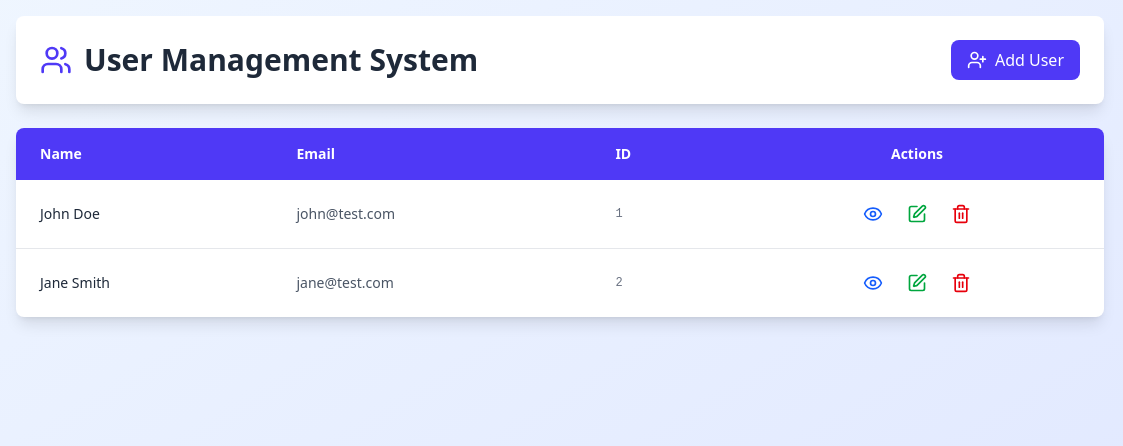
Test: App Component - Integration Tests › should delete user after confirmation
Expected: the text "John Doe" is shown, [16, 180, 272, 248]
Step 1. Click the button named "Delete John Doe" → click(961, 214), box [943, 196, 979, 232]
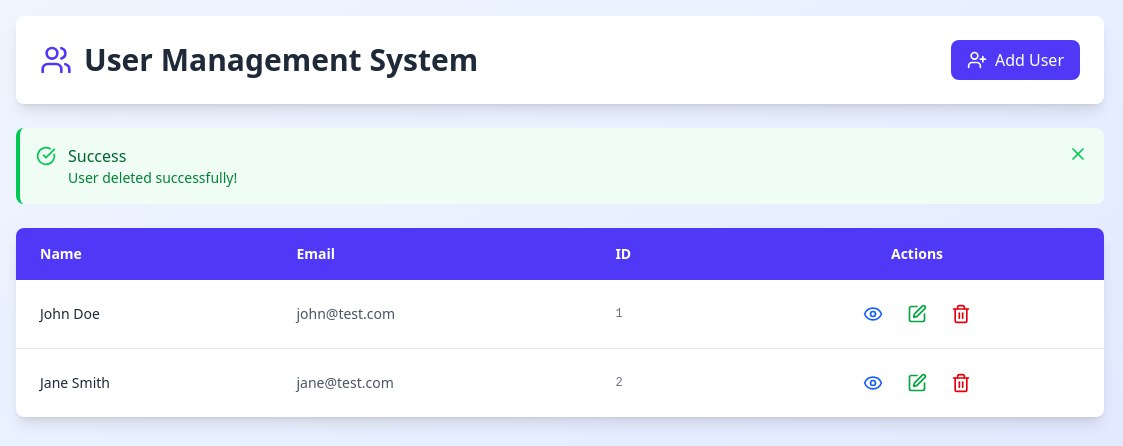
Expected: the text "User deleted successfully!" is shown, [68, 168, 237, 187]
